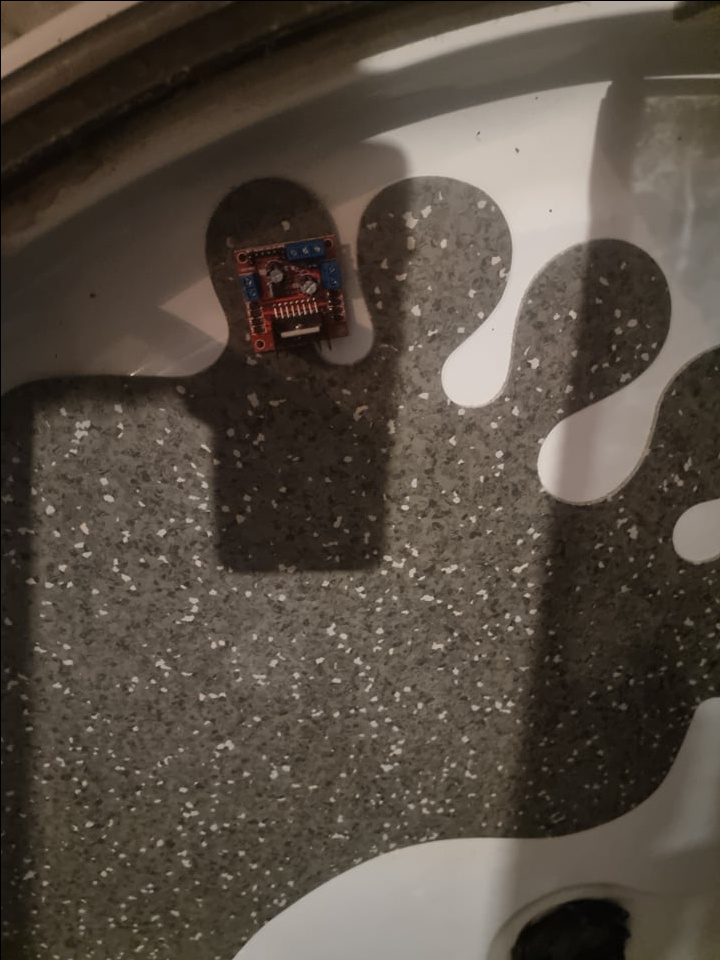MOTOR: (229, 231, 350, 358)
